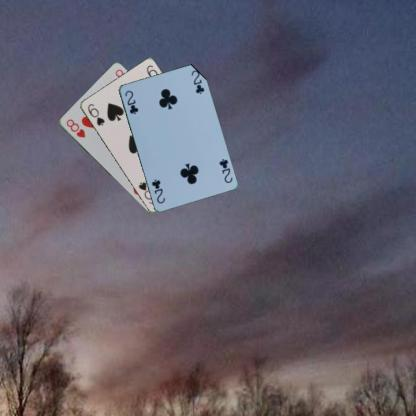2c: (216, 156, 233, 184), (122, 88, 139, 115)
6s: (85, 101, 106, 127)
8h: (64, 116, 86, 139)
